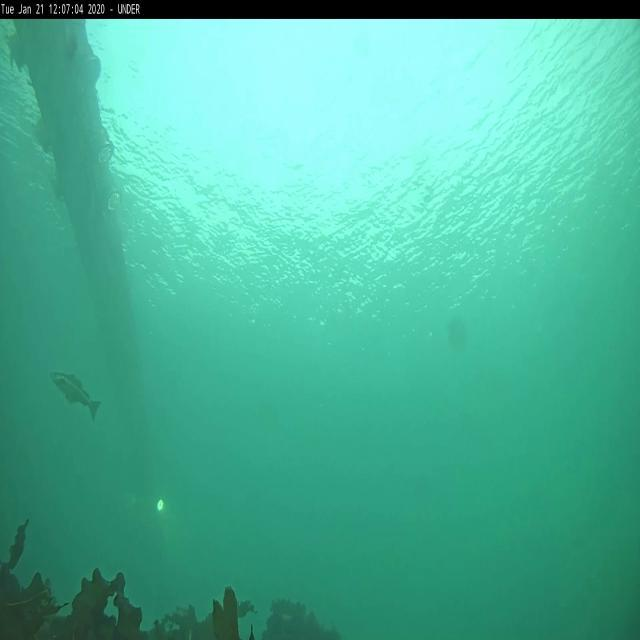fish: (49, 368, 98, 418)
